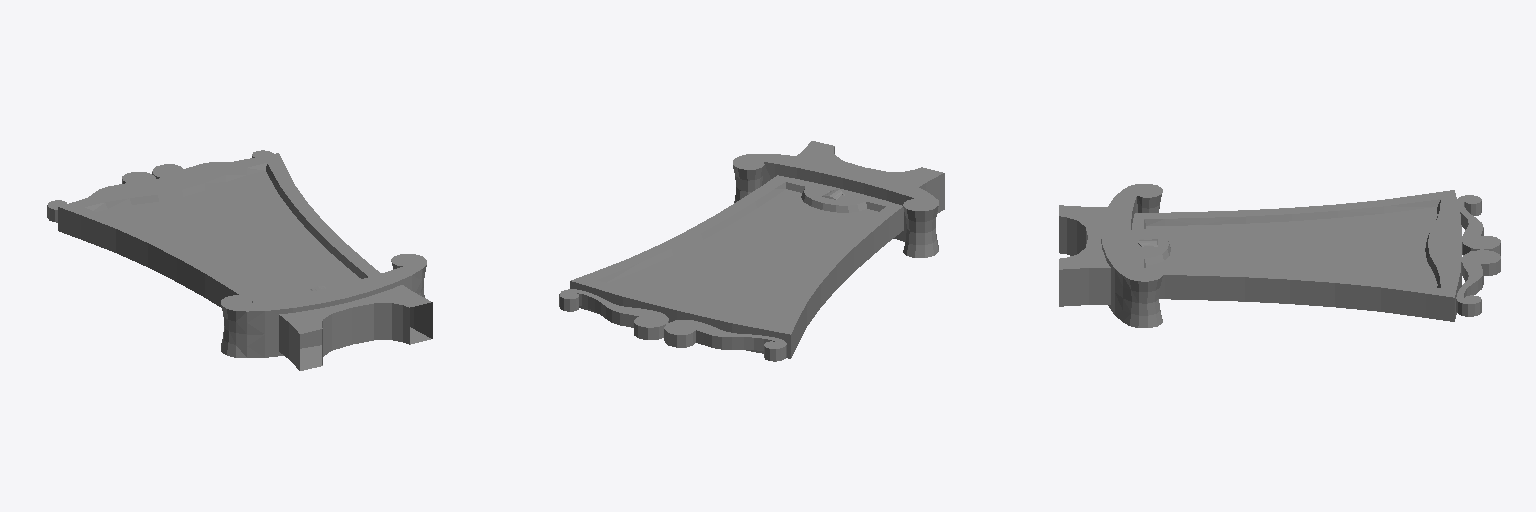
Rendered from HomeMirror.obj.
3 renders of one model, left to right at view 1: azimuth 30°, elevation 25°; view 2: azimuth 150°, elevation 25°; view 3: azimuth 270°, elevation 25°, orthographic.
Parts seen in each view (by area): view 1: Mirror__BodyMT, Mirror__MirrorMT; view 2: Mirror__BodyMT, Mirror__MirrorMT; view 3: Mirror__BodyMT, Mirror__MirrorMT.
Boxes of the visible parts, x1,y1,x2,y2 form: Mirror__BodyMT: [47, 150, 432, 370]; Mirror__MirrorMT: [97, 171, 360, 300]; Mirror__BodyMT: [559, 141, 944, 361]; Mirror__MirrorMT: [610, 189, 878, 324]; Mirror__BodyMT: [1059, 184, 1500, 327]; Mirror__MirrorMT: [1146, 207, 1437, 287].
Size of the model in its own units: 154 by 30.6 by 262.